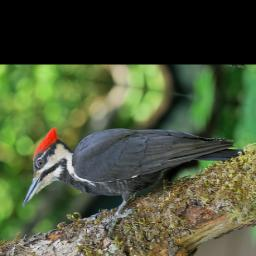Woodpecker: (18, 97, 250, 254)
